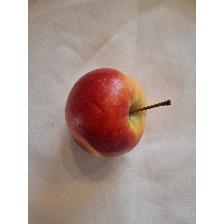Apfel: (63, 64, 171, 160)
